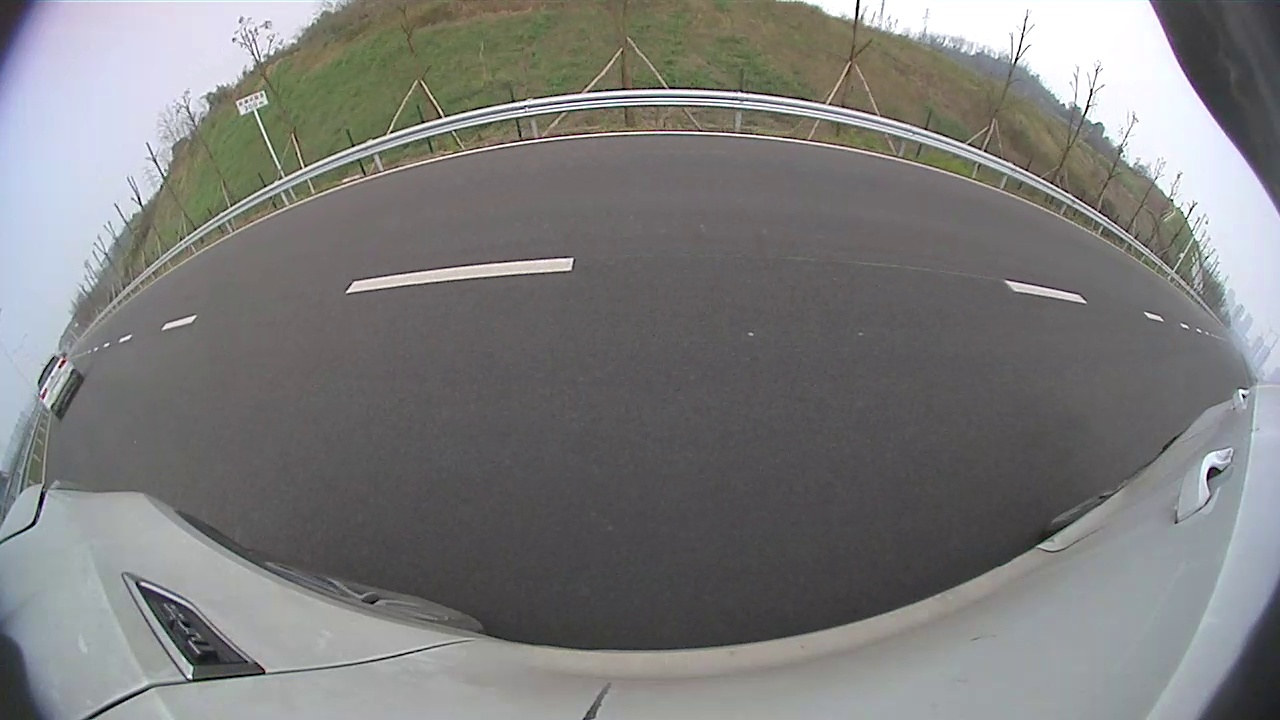car: (37, 353, 84, 420)
